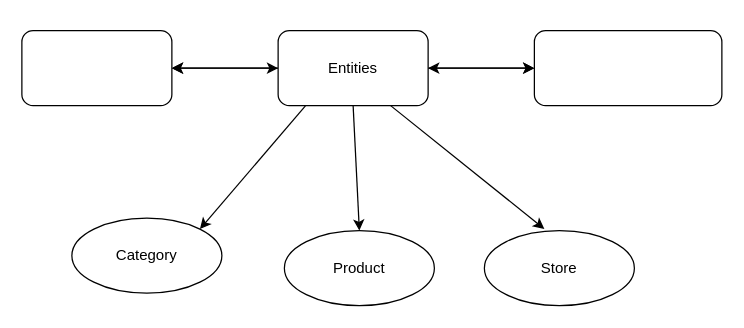
Some shapes in this 744 by 328 pixel diagram are drawn without their labels. The shapes that lost their labels are listed below. From the top down, each one's centre as x and y in pixels, then its label:
At point (96, 67): "StoreApp".
At point (627, 67): "RandomStorePopulator".
